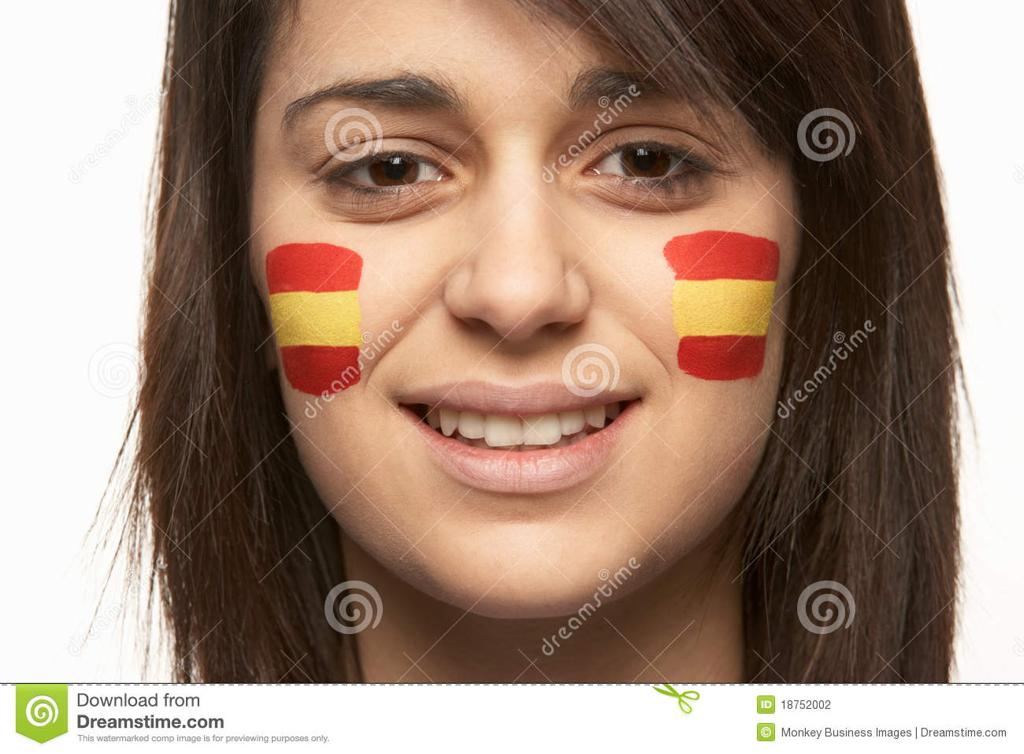face: (246, 24, 792, 620)
